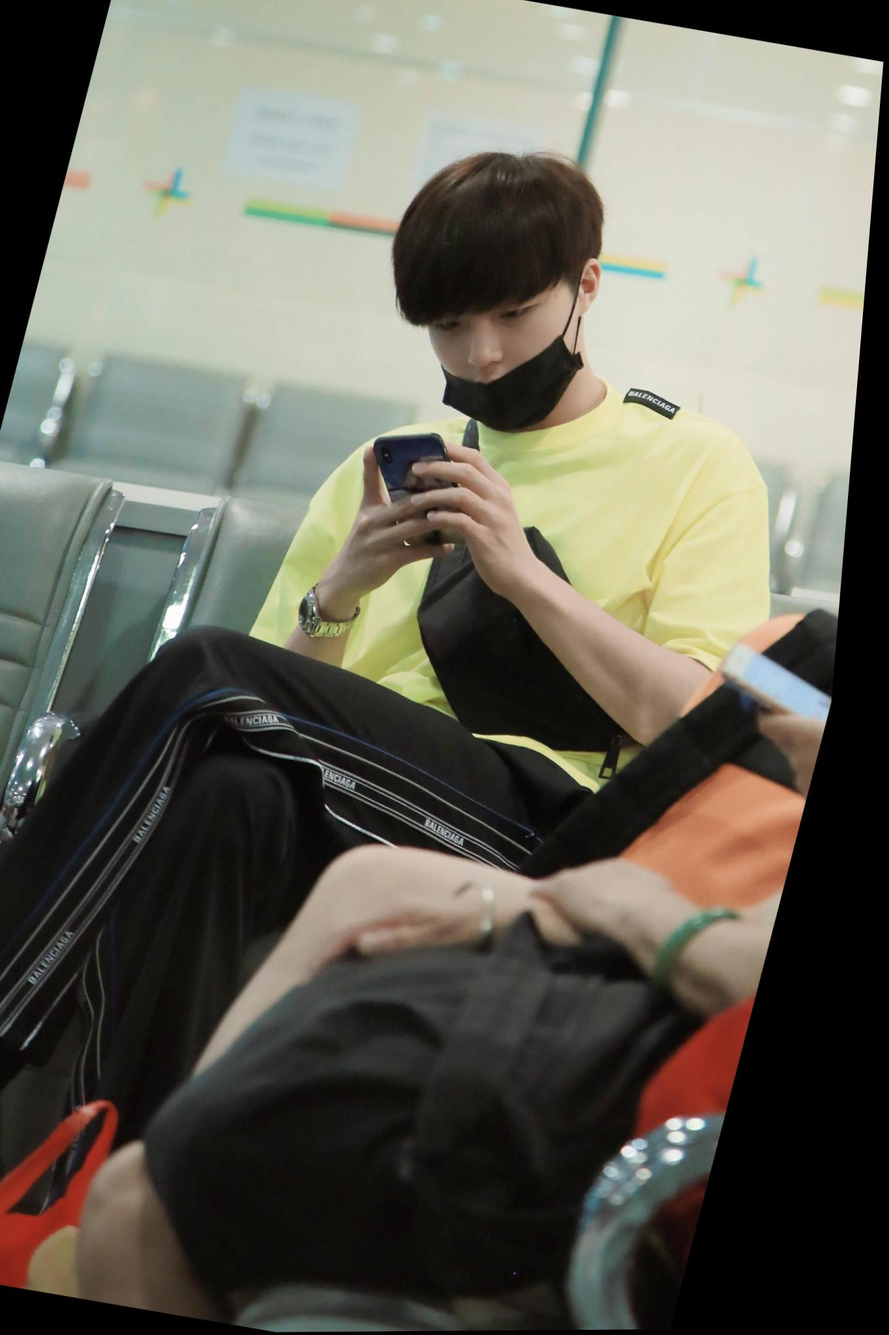WRONG: (410, 260, 599, 436)
